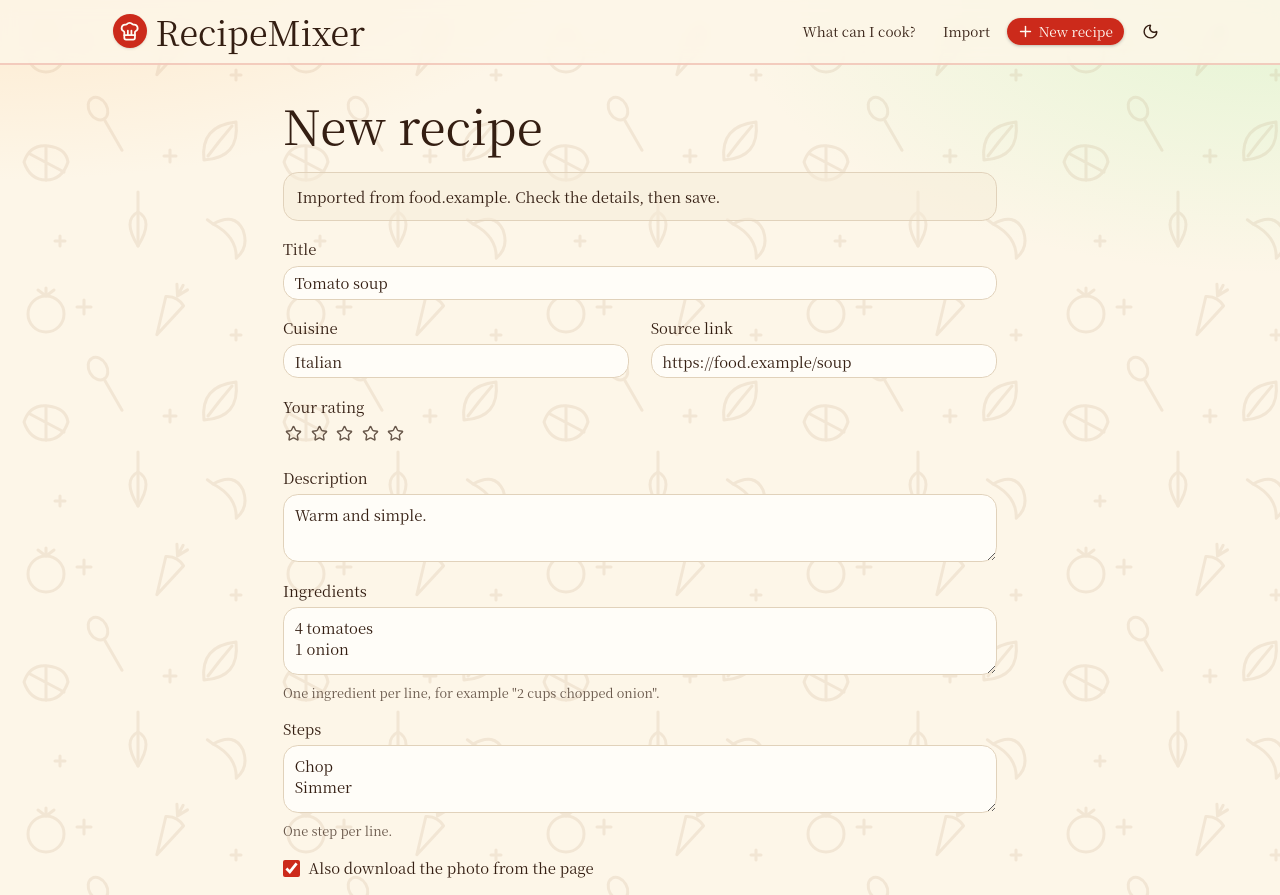
Scenario: leaving an imported form › opens a blank form when "New recipe" is chosen from the header
Expected: the field labelled "Title" holds "Tomato soup", [283,266,997,300]
Click the link "New recipe". click: (1065, 32)
box: [1006,17,1124,46]
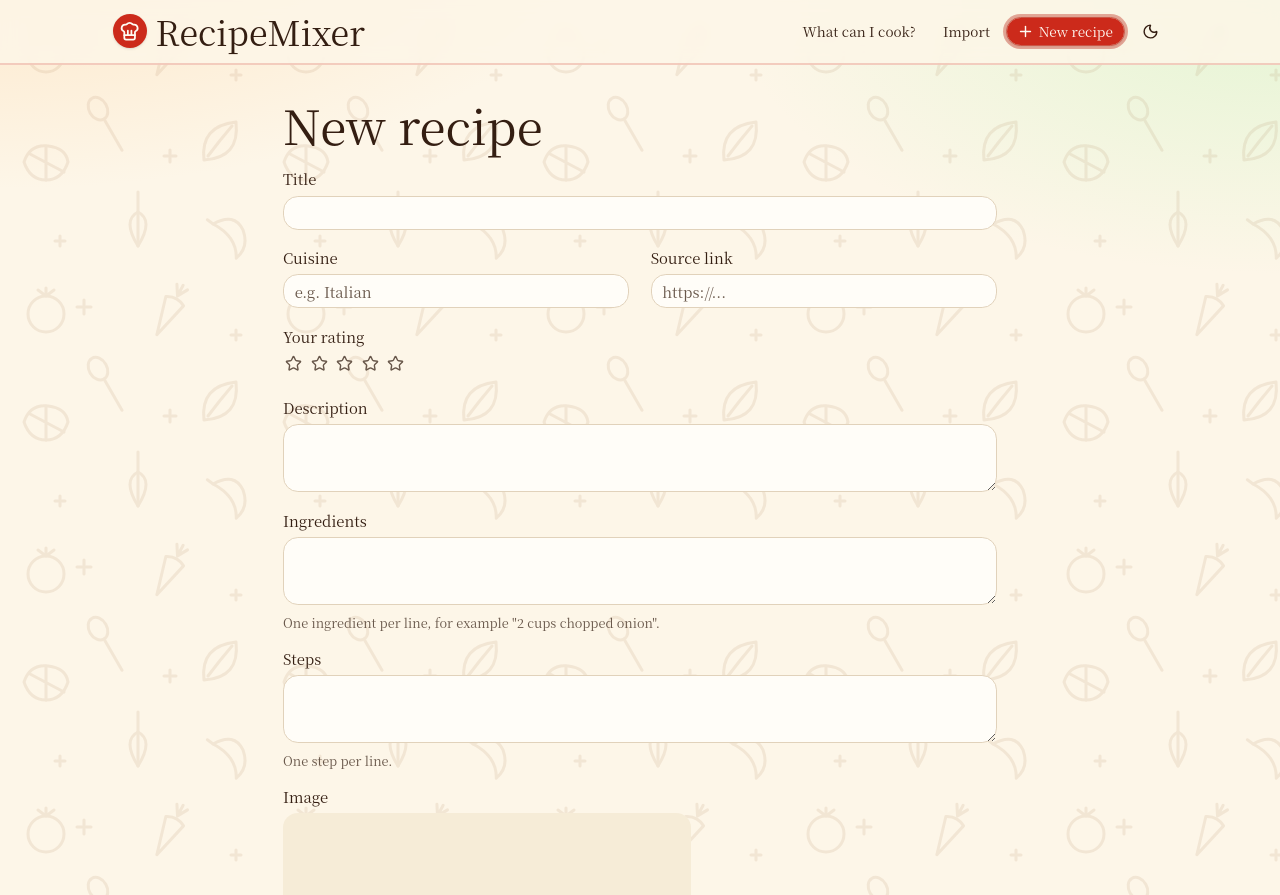
Expected: the field labelled "Title" is empty, [283,196,997,230]
Expected: the text box labelled "Ingredients" is empty, [283,537,997,605]
Expected: the message "Imported" is gone
